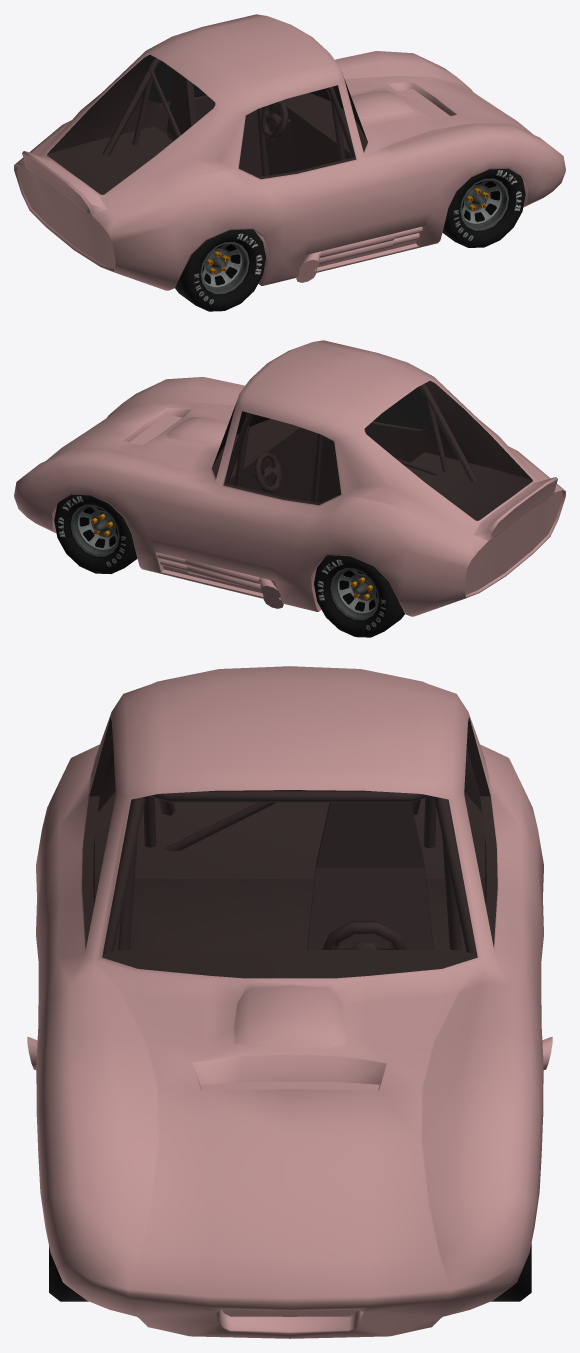
3 renders of one model, top to bottom at view 1: azimuth 30°, elevation 25°; view 2: azimuth 150°, elevation 25°; view 3: azimuth 270°, elevation 25°, orthographic. The views are drawn at different scales.
Visible parts, largest first — view 1: CarBody, Glass, TireRearR, TireFrontR; view 2: CarBody, Glass, TireRearL, TireFrontL; view 3: CarBody, Glass.
Boxes of the visible parts, box(x1,y1,x2,y2) form: CarBody: box(14, 14, 565, 290); Glass: box(47, 55, 367, 194); TireRearR: box(175, 229, 265, 311); TireFrontR: box(442, 168, 525, 247); CarBody: box(14, 340, 565, 616); Glass: box(212, 381, 532, 520); TireRearL: box(314, 555, 404, 637); TireFrontL: box(54, 494, 137, 573); CarBody: box(27, 666, 552, 1338); Glass: box(82, 717, 497, 978).
Size of the model in its own units: 270 by 108 by 127.
